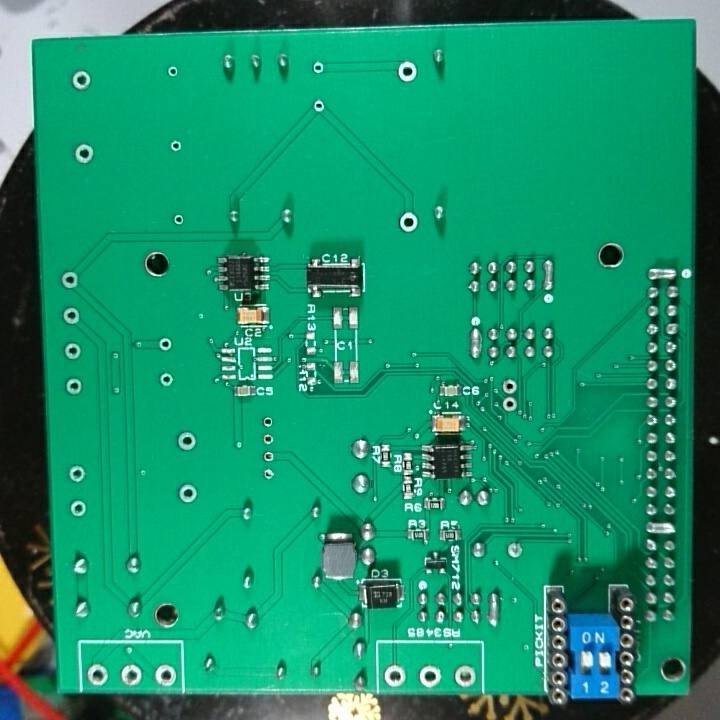F: (415, 662, 445, 689), (84, 660, 112, 688), (70, 139, 99, 166), (173, 426, 200, 454), (118, 660, 147, 686), (381, 663, 410, 689), (395, 58, 421, 86), (152, 661, 178, 689), (450, 660, 478, 686), (175, 480, 201, 508), (395, 209, 421, 236), (60, 337, 85, 363), (68, 68, 94, 92), (58, 303, 83, 326), (62, 374, 84, 398), (67, 462, 89, 485), (504, 540, 527, 562), (68, 496, 89, 520), (59, 269, 81, 290), (499, 377, 521, 395), (156, 369, 175, 389), (261, 464, 280, 484), (165, 62, 181, 85), (501, 395, 520, 414), (155, 335, 173, 355), (260, 413, 276, 431), (259, 449, 279, 463), (169, 138, 186, 154), (171, 212, 187, 229), (261, 432, 278, 448), (311, 60, 327, 75), (313, 95, 325, 115)
P: (485, 589, 503, 632), (644, 264, 678, 284), (541, 257, 557, 294), (643, 519, 677, 536), (468, 325, 483, 360)
